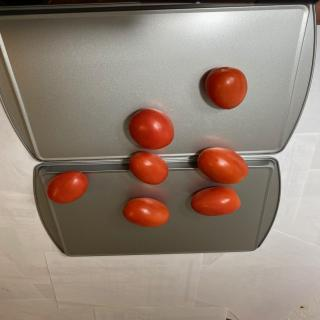Tomato: (128, 108, 174, 150), (197, 147, 249, 184), (205, 66, 248, 110), (191, 186, 241, 216), (122, 197, 170, 227), (46, 170, 88, 203), (129, 151, 169, 185)
